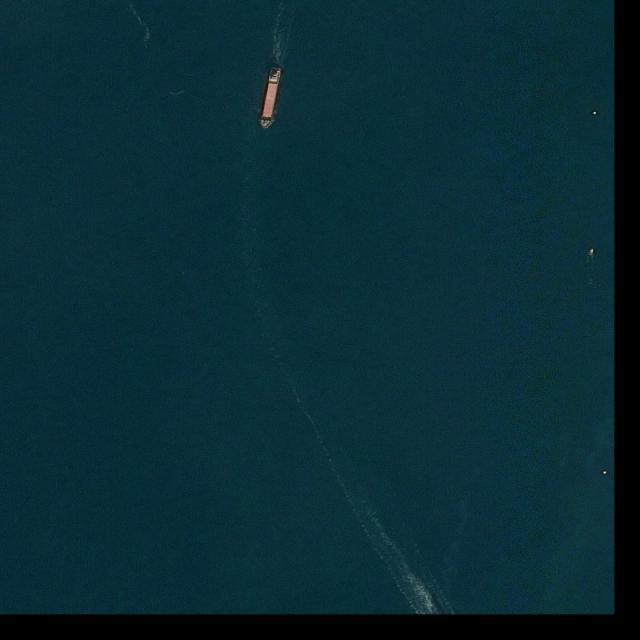ship: (262, 67, 281, 129), (589, 248, 594, 256)
